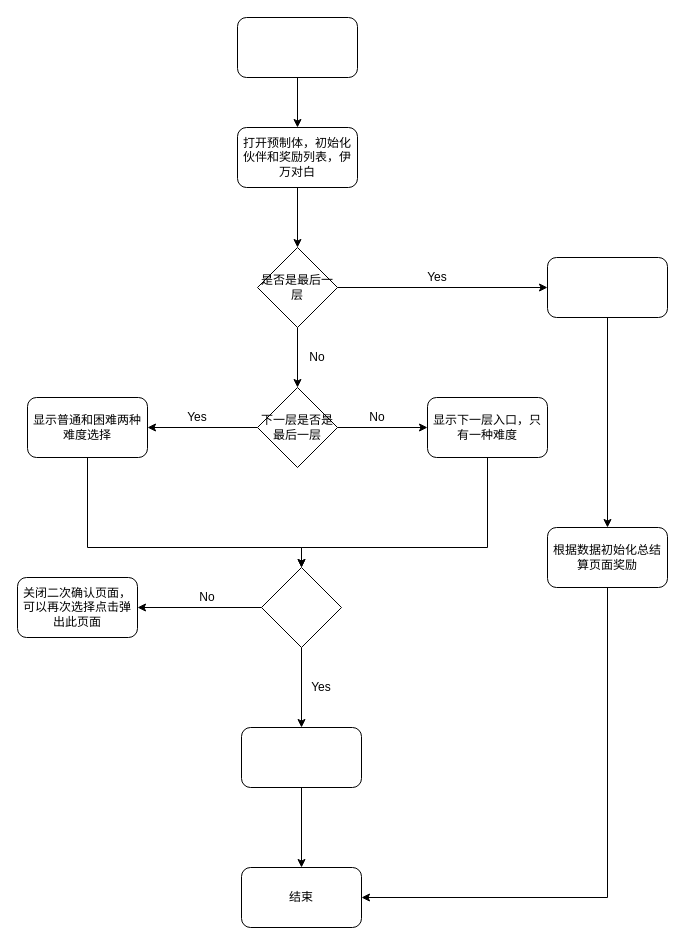
Image size: 685x945. Some labels were removed from this diagram. Each missing label, with the centre of its shape:
二次确认是否前往选中监狱层: point (301, 607)
开始: point (297, 47)
总结算: point (607, 287)
进入下一层监狱: point (301, 757)
